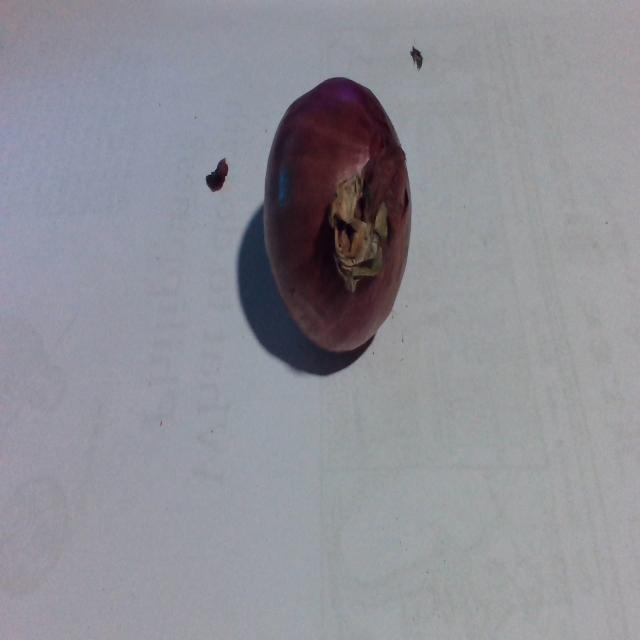onion: (250, 67, 434, 375)
